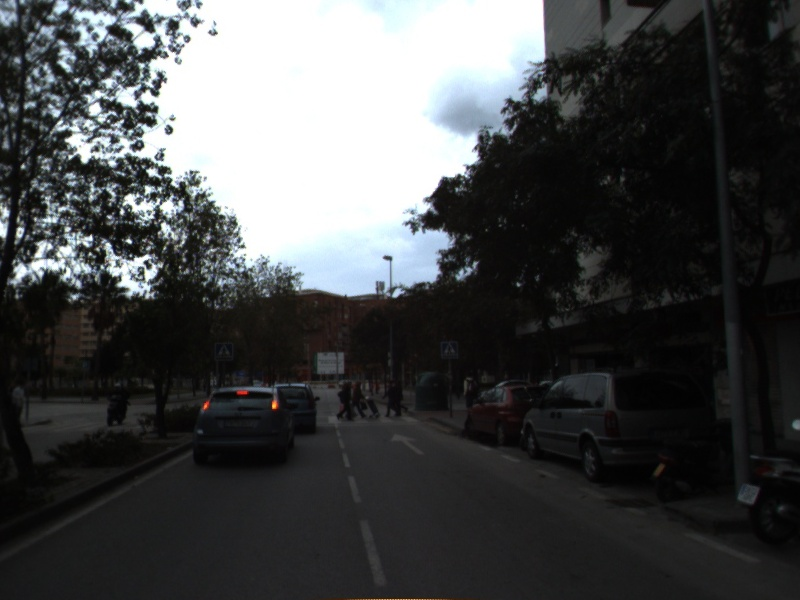STRAIGHT: (388, 431, 428, 457)
